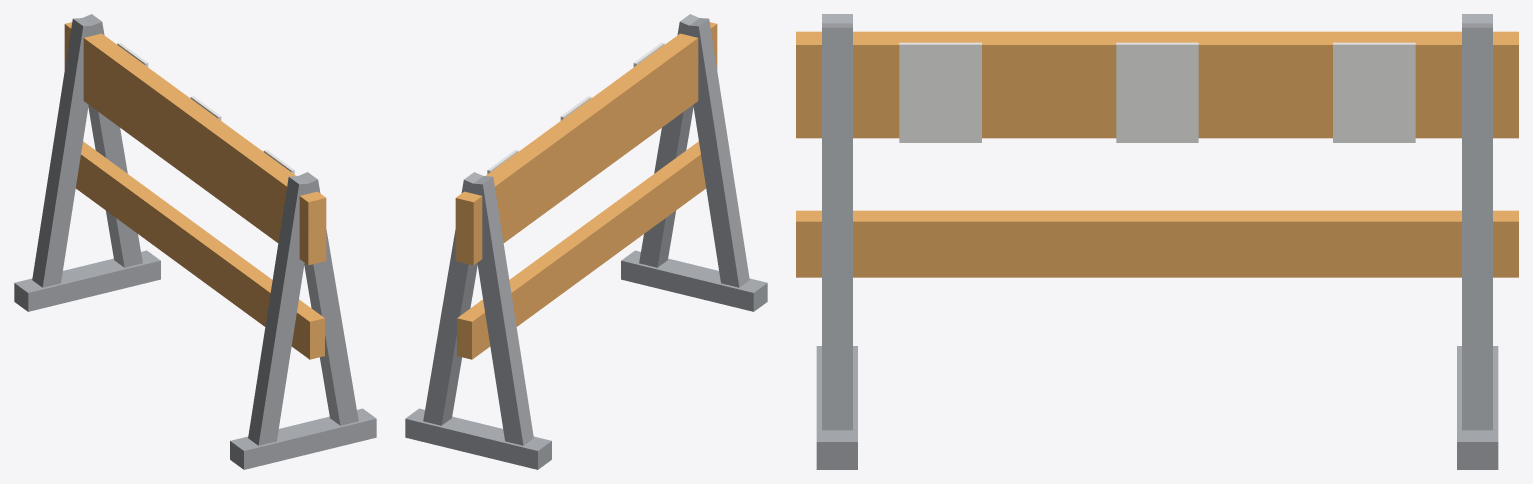
File: Obs3_Barrier.fbx
3 views of the same model, side by side, from view 1: azimuth 30°, elevation 25°; view 2: azimuth 150°, elevation 25°; view 3: azimuth 270°, elevation 25° (orthographic). The views are drawn at different scales.
Parts seen in each view (by area): view 1: Obs3_Barrier; view 2: Obs3_Barrier; view 3: Obs3_Barrier.
Part boxes in pixels (x1,y1,x2,y2): Obs3_Barrier: [14, 14, 376, 469]; Obs3_Barrier: [405, 14, 767, 469]; Obs3_Barrier: [796, 14, 1518, 469].
Size of the model in its own units: 0.44 by 0.8573 by 1.4.
